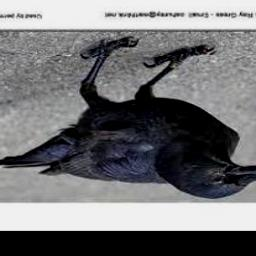Crow: (0, 38, 256, 199)
